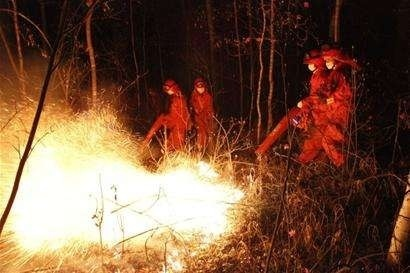fire: (8, 124, 246, 250)
